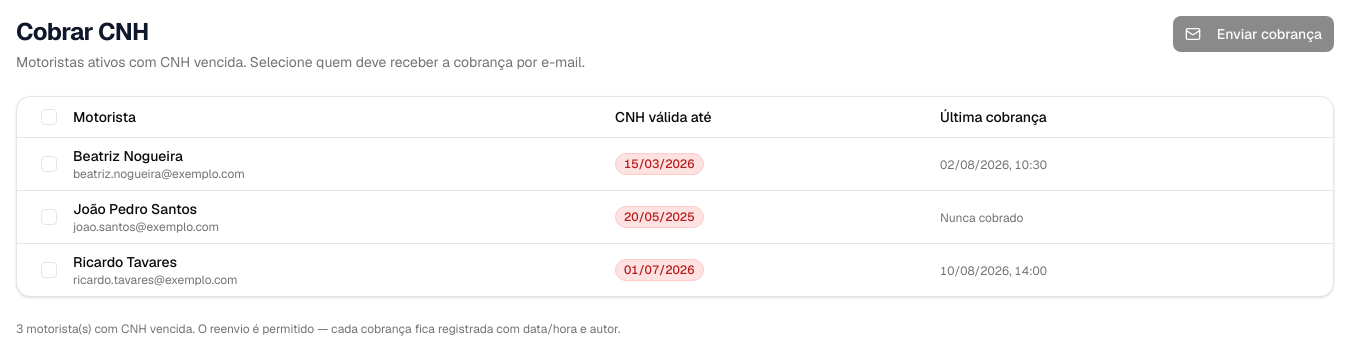
Test case: CnhCollectionClient — render › seleção atualiza o botão com a contagem
The image size is (1351, 353).
// Seleciona o primeiro motorista
Click the checkbox named "Selecionar Beatriz Nogueira" at (49, 164), box top-left (41, 156), bottom-right (57, 172)
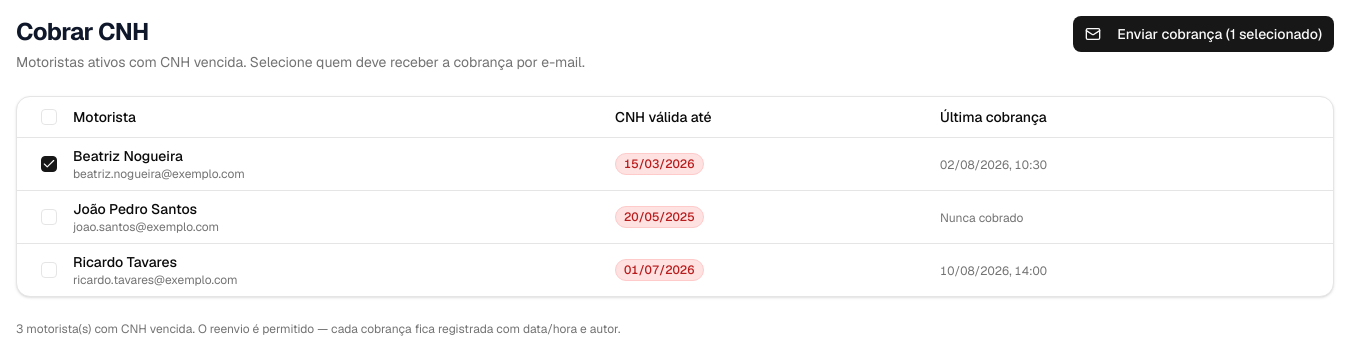
Check: the button "Enviar cobrança (1 selecionado)" is enabled, box top-left (1073, 16), bottom-right (1334, 52)
Check: the button "Enviar cobrança (1 selecionado)" is shown, box top-left (1073, 16), bottom-right (1334, 52)
